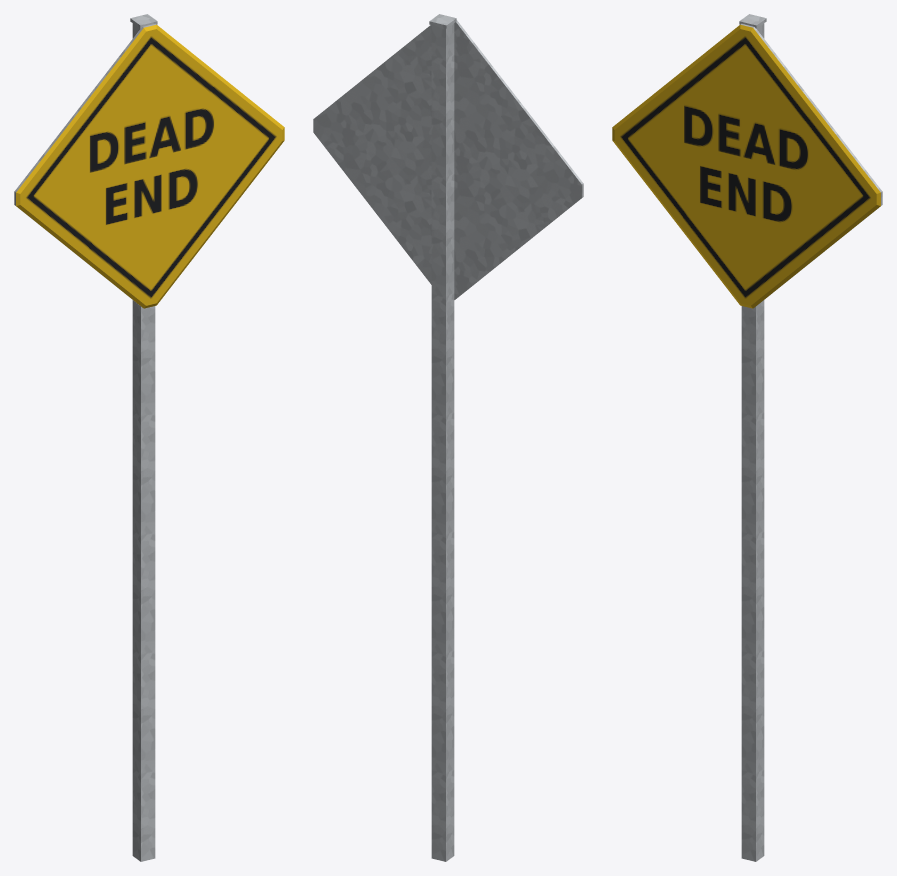
The model's file is dead_end.gltf.
The picture shows the model from 3 angles, left to right: view 1: azimuth 30°, elevation 25°; view 2: azimuth 150°, elevation 25°; view 3: azimuth 330°, elevation 25°; orthographic projection.
Parts seen in each view (by area): view 1: dead_end; view 2: dead_end; view 3: dead_end.
Boxes of the visible parts, left/top/right/bottom form: dead_end: left=14, top=14, right=284, bottom=861; dead_end: left=313, top=14, right=583, bottom=861; dead_end: left=612, top=14, right=882, bottom=861.
Size of the model in its own units: 1.18 by 3.52 by 0.0943.
2 materials, 2 textured.
